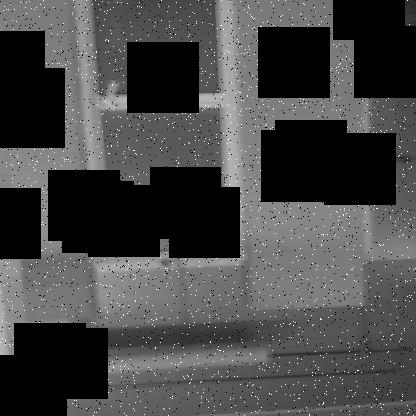Porte: (68, 1, 249, 270)
